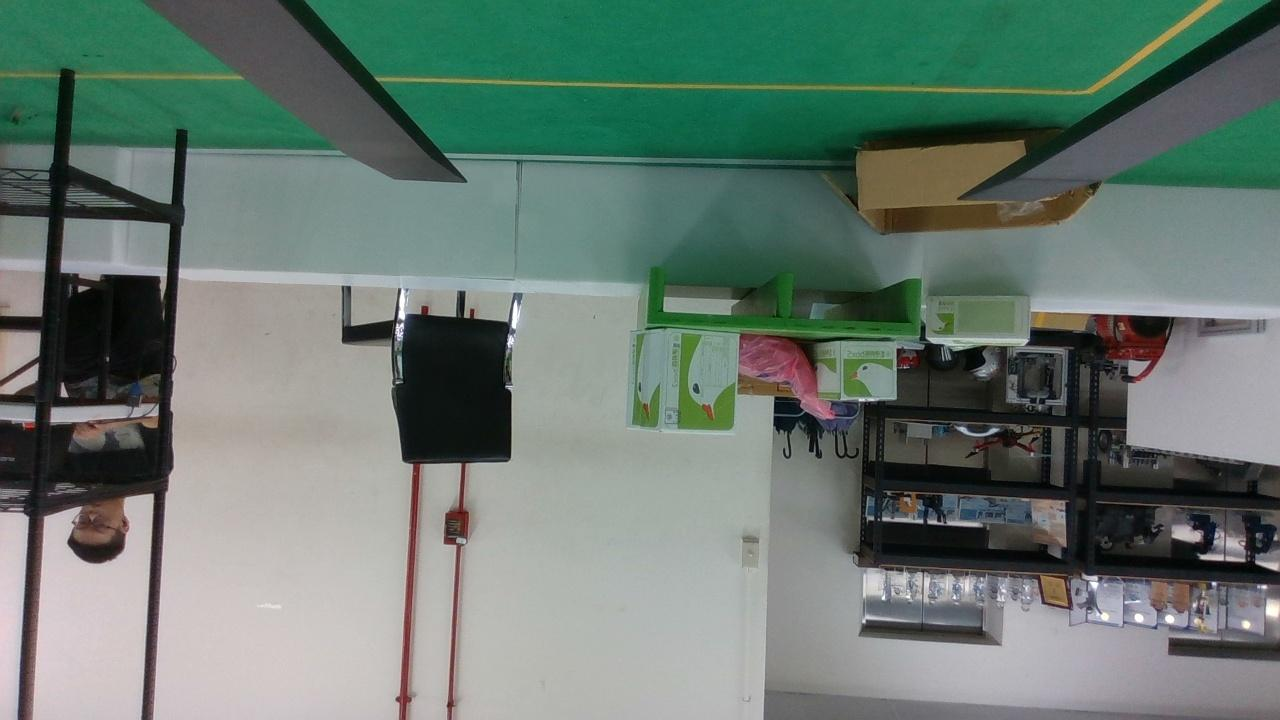Pallet: (648, 263, 924, 340)
